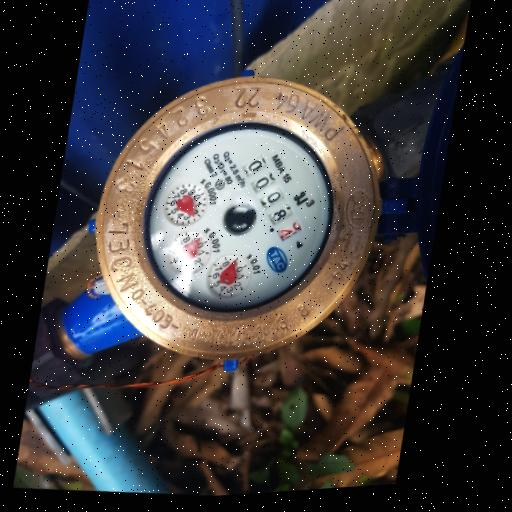0: (241, 152, 269, 179), (258, 186, 286, 212), (250, 169, 277, 195)
4: (273, 215, 303, 244)
8: (267, 202, 295, 227)
border_water_meter_number: (227, 147, 317, 250)
